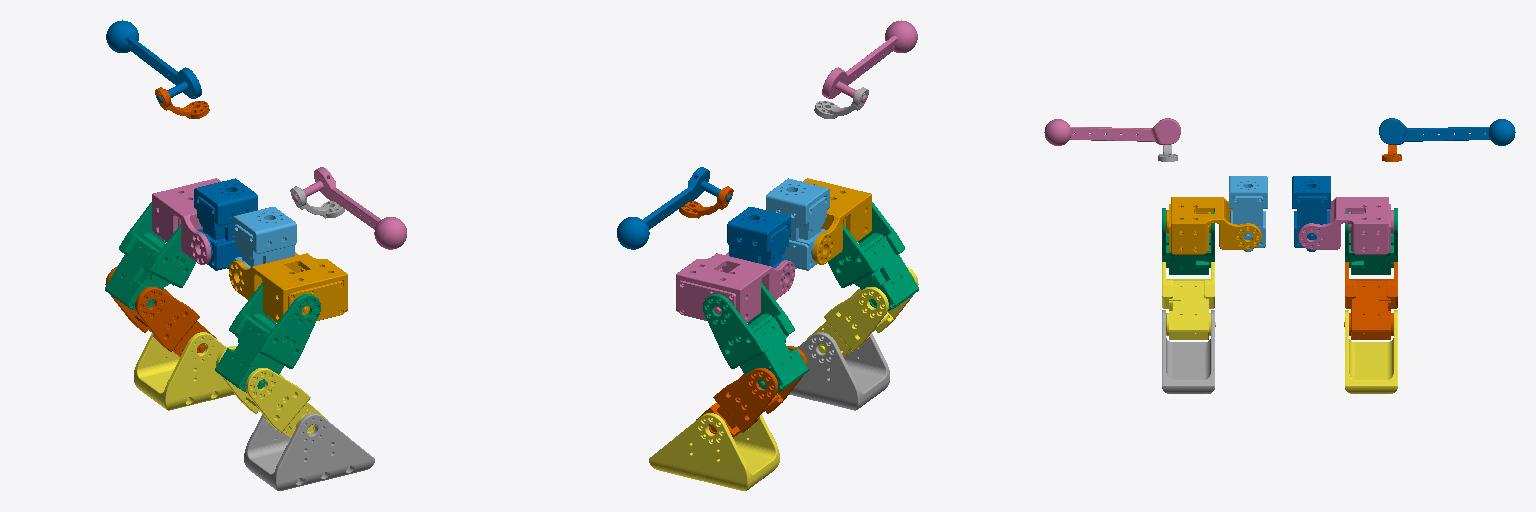
robot.urdf — arti_d1:
<?xml version="1.0"?>
<!-- generated by export_urdf.py from Fusion doc Open_mini_duck_redesign_for URDF, ARM_MODE=serial, ZERO_POSE=current -->
<!-- trunk frame origin = point from sketch redesign/Sketch52, Fusion world -9.64957 0 -246.248 mm (axes = Fusion world: x forward, y left, z up) -->
<!-- joint 0 = this Fusion pose (deg from the straight CAD pose): left_hip_pitch +36.240, left_knee -78.700, left_ankle +42.456, right_hip_pitch +36.240, right_knee -78.700, right_ankle +42.456 -->
<robot name="arti_d1">
  <link name="trunk">
    <inertial>
        <origin xyz="0 0 0" rpy="0 0 0" />
        <mass value="1e-9" />
        <inertia ixx="0" ixy="0" ixz="0" iyy="0" iyz="0" izz="0" />
    </inertial>
  </link>

  <!-- trunk = Fusion origin frame (zero mass); pelvis = root, origin at the ankle center on the floor -->
  <joint name="trunk_frame" type="fixed">
      <origin xyz="0.00964957 0 0.246248" rpy="0 0 0" />
      <parent link="pelvis" />
      <child link="trunk" />
      <axis xyz="0 0 0"/>
  </joint>

  <link name="pelvis">
    <inertial>
      <origin xyz="0.0142445 5.36923e-05 0.300732" rpy="0 0 0"/>
      <mass value="3.69352"/>
      <inertia ixx="0.0179764" iyy="0.0137874" izz="0.0183283" ixy="4.22501e-06" iyz="-7.15743e-06" ixz="0.00060127"/>
    </inertial>
    <visual>
      <origin xyz="0 0 0" rpy="0 0 0"/>
      <geometry><mesh filename="../meshes/pelvis.stl" scale="0.001 0.001 0.001"/></geometry>
    </visual>
    <collision>
      <origin xyz="0 0 0" rpy="0 0 0"/>
      <geometry><mesh filename="../meshes/pelvis.stl" scale="0.001 0.001 0.001"/></geometry>
    </collision>
  </link>

  <link name="left_thigh">
    <inertial>
      <origin xyz="-0.0339167 0.0245583 -0.0462735" rpy="0 0 0"/>
      <mass value="0.201567"/>
      <inertia ixx="0.000117356" iyy="0.000112819" izz="9.48907e-05" ixy="6.01623e-07" iyz="8.2081e-07" ixz="-3.55819e-05"/>
    </inertial>
    <visual>
      <origin xyz="0 0 0" rpy="0 0 0"/>
      <geometry><mesh filename="../meshes/left_thigh.stl" scale="0.001 0.001 0.001"/></geometry>
    </visual>
    <collision>
      <origin xyz="0 0 0" rpy="0 0 0"/>
      <geometry><mesh filename="../meshes/left_thigh.stl" scale="0.001 0.001 0.001"/></geometry>
    </collision>
  </link>
  <link name="left_foot_link">
    <inertial>
      <origin xyz="0.0116596 -0.0237721 -0.0422721" rpy="0 0 0"/>
      <mass value="0.15981"/>
      <inertia ixx="8.91057e-05" iyy="0.000156093" izz="0.000181798" ixy="-8.45586e-08" iyz="2.94024e-07" ixz="7.00463e-06"/>
    </inertial>
    <visual>
      <origin xyz="0 0 0" rpy="0 0 0"/>
      <geometry><mesh filename="../meshes/left_foot.stl" scale="0.001 0.001 0.001"/></geometry>
    </visual>
    <collision>
      <origin xyz="0 0 0" rpy="0 0 0"/>
      <geometry><mesh filename="../meshes/left_foot.stl" scale="0.001 0.001 0.001"/></geometry>
    </collision>
  </link>
  <link name="left_hip">
    <inertial>
      <origin xyz="-0.00492338 0 -0.084295" rpy="0 0 0"/>
      <mass value="0.19661"/>
      <inertia ixx="9.44363e-05" iyy="0.000104571" izz="5.45394e-05" ixy="0" iyz="0" ixz="8.88875e-07"/>
    </inertial>
    <visual>
      <origin xyz="0 0 0" rpy="0 0 0"/>
      <geometry><mesh filename="../meshes/left_hip.stl" scale="0.001 0.001 0.001"/></geometry>
    </visual>
    <collision>
      <origin xyz="0 0 0" rpy="0 0 0"/>
      <geometry><mesh filename="../meshes/left_hip.stl" scale="0.001 0.001 0.001"/></geometry>
    </collision>
  </link>
  <link name="left_shin">
    <inertial>
      <origin xyz="0.0387273 0.023442 -0.0423231" rpy="0 0 0"/>
      <mass value="0.201572"/>
      <inertia ixx="0.000109424" iyy="0.000112813" izz="0.00010282" ixy="6.87261e-07" iyz="-7.52772e-07" ixz="3.71616e-05"/>
    </inertial>
    <visual>
      <origin xyz="0 0 0" rpy="0 0 0"/>
      <geometry><mesh filename="../meshes/left_shin.stl" scale="0.001 0.001 0.001"/></geometry>
    </visual>
    <collision>
      <origin xyz="0 0 0" rpy="0 0 0"/>
      <geometry><mesh filename="../meshes/left_shin.stl" scale="0.001 0.001 0.001"/></geometry>
    </collision>
  </link>
  <link name="left_roll_to_pitch">
    <inertial>
      <origin xyz="0.0277586 0.0608919 0.00177323" rpy="0 0 0"/>
      <mass value="0.220929"/>
      <inertia ixx="0.000106859" iyy="0.000105589" izz="0.000163882" ixy="-4.32704e-06" iyz="1.70213e-06" ixz="3.58423e-07"/>
    </inertial>
    <visual>
      <origin xyz="0 0 0" rpy="0 0 0"/>
      <geometry><mesh filename="../meshes/left_roll_to_pitch.stl" scale="0.001 0.001 0.001"/></geometry>
    </visual>
    <collision>
      <origin xyz="0 0 0" rpy="0 0 0"/>
      <geometry><mesh filename="../meshes/left_roll_to_pitch.stl" scale="0.001 0.001 0.001"/></geometry>
    </collision>
  </link>
  <link name="right_foot_link">
    <inertial>
      <origin xyz="0.0116596 0.0242279 -0.0422721" rpy="0 0 0"/>
      <mass value="0.15981"/>
      <inertia ixx="8.91057e-05" iyy="0.000156093" izz="0.000181798" ixy="-8.45586e-08" iyz="2.94024e-07" ixz="7.00463e-06"/>
    </inertial>
    <visual>
      <origin xyz="0 0 0" rpy="0 0 0"/>
      <geometry><mesh filename="../meshes/right_foot.stl" scale="0.001 0.001 0.001"/></geometry>
    </visual>
    <collision>
      <origin xyz="0 0 0" rpy="0 0 0"/>
      <geometry><mesh filename="../meshes/right_foot.stl" scale="0.001 0.001 0.001"/></geometry>
    </collision>
  </link>
  <link name="right_roll_to_pitch">
    <inertial>
      <origin xyz="0.0277584 -0.060892 0.00177324" rpy="0 0 0"/>
      <mass value="0.220928"/>
      <inertia ixx="0.000106858" iyy="0.000105587" izz="0.00016388" ixy="4.32791e-06" iyz="-1.70218e-06" ixz="3.5834e-07"/>
    </inertial>
    <visual>
      <origin xyz="0 0 0" rpy="0 0 0"/>
      <geometry><mesh filename="../meshes/right_roll_to_pitch.stl" scale="0.001 0.001 0.001"/></geometry>
    </visual>
    <collision>
      <origin xyz="0 0 0" rpy="0 0 0"/>
      <geometry><mesh filename="../meshes/right_roll_to_pitch.stl" scale="0.001 0.001 0.001"/></geometry>
    </collision>
  </link>
  <link name="right_hip">
    <inertial>
      <origin xyz="-0.00492338 0 -0.084295" rpy="0 0 0"/>
      <mass value="0.19661"/>
      <inertia ixx="9.44363e-05" iyy="0.000104571" izz="5.45394e-05" ixy="0" iyz="0" ixz="8.88875e-07"/>
    </inertial>
    <visual>
      <origin xyz="0 0 0" rpy="0 0 0"/>
      <geometry><mesh filename="../meshes/right_hip.stl" scale="0.001 0.001 0.001"/></geometry>
    </visual>
    <collision>
      <origin xyz="0 0 0" rpy="0 0 0"/>
      <geometry><mesh filename="../meshes/right_hip.stl" scale="0.001 0.001 0.001"/></geometry>
    </collision>
  </link>
  <link name="right_thigh">
    <inertial>
      <origin xyz="-0.0339168 -0.0245577 -0.0462736" rpy="0 0 0"/>
      <mass value="0.201567"/>
      <inertia ixx="0.000117355" iyy="0.000112818" izz="9.48903e-05" ixy="-6.03408e-07" iyz="-8.23245e-07" ixz="-3.55812e-05"/>
    </inertial>
    <visual>
      <origin xyz="0 0 0" rpy="0 0 0"/>
      <geometry><mesh filename="../meshes/right_thigh.stl" scale="0.001 0.001 0.001"/></geometry>
    </visual>
    <collision>
      <origin xyz="0 0 0" rpy="0 0 0"/>
      <geometry><mesh filename="../meshes/right_thigh.stl" scale="0.001 0.001 0.001"/></geometry>
    </collision>
  </link>
  <link name="right_shin">
    <inertial>
      <origin xyz="0.0387277 -0.0234417 -0.0423232" rpy="0 0 0"/>
      <mass value="0.201569"/>
      <inertia ixx="0.000109423" iyy="0.00011281" izz="0.000102816" ixy="-6.8696e-07" iyz="7.50737e-07" ixz="3.71613e-05"/>
    </inertial>
    <visual>
      <origin xyz="0 0 0" rpy="0 0 0"/>
      <geometry><mesh filename="../meshes/right_shin.stl" scale="0.001 0.001 0.001"/></geometry>
    </visual>
    <collision>
      <origin xyz="0 0 0" rpy="0 0 0"/>
      <geometry><mesh filename="../meshes/right_shin.stl" scale="0.001 0.001 0.001"/></geometry>
    </collision>
  </link>
  <link name="left_arm_plate">
    <inertial>
      <origin xyz="0.0114968 0.091619 0.00152674" rpy="0 0 0"/>
      <mass value="0.0606196"/>
      <inertia ixx="0.000147627" iyy="6.21553e-06" izz="0.000148816" ixy="-6.08529e-06" iyz="-8.98693e-07" ixz="-2.25225e-07"/>
    </inertial>
    <visual>
      <origin xyz="0 0 0" rpy="0 0 0"/>
      <geometry><mesh filename="../meshes/left_arm_plate.stl" scale="0.001 0.001 0.001"/></geometry>
    </visual>
    <collision>
      <origin xyz="0 0 0" rpy="0 0 0"/>
      <geometry><mesh filename="../meshes/left_arm_plate.stl" scale="0.001 0.001 0.001"/></geometry>
    </collision>
  </link>
  <link name="left_arm_m8_crank">
    <inertial>
      <origin xyz="-0.0253569 5.20576e-08 0.013644" rpy="0 0 0"/>
      <mass value="0.0078822"/>
      <inertia ixx="8.98065e-07" iyy="2.58505e-06" izz="1.96519e-06" ixy="0" iyz="0" ixz="1.03863e-06"/>
    </inertial>
    <visual>
      <origin xyz="0 0 0" rpy="0 0 0"/>
      <geometry><mesh filename="../meshes/left_arm_m8_crank.stl" scale="0.001 0.001 0.001"/></geometry>
    </visual>
    <collision>
      <origin xyz="0 0 0" rpy="0 0 0"/>
      <geometry><mesh filename="../meshes/left_arm_m8_crank.stl" scale="0.001 0.001 0.001"/></geometry>
    </collision>
  </link>
  <link name="right_arm_plate">
    <inertial>
      <origin xyz="0.0114968 -0.0916191 0.00152676" rpy="0 0 0"/>
      <mass value="0.0606195"/>
      <inertia ixx="0.000147626" iyy="6.21553e-06" izz="0.000148816" ixy="6.08533e-06" iyz="8.98572e-07" ixz="-2.25229e-07"/>
    </inertial>
    <visual>
      <origin xyz="0 0 0" rpy="0 0 0"/>
      <geometry><mesh filename="../meshes/right_arm_plate.stl" scale="0.001 0.001 0.001"/></geometry>
    </visual>
    <collision>
      <origin xyz="0 0 0" rpy="0 0 0"/>
      <geometry><mesh filename="../meshes/right_arm_plate.stl" scale="0.001 0.001 0.001"/></geometry>
    </collision>
  </link>
  <link name="right_arm_m8_crank">
    <inertial>
      <origin xyz="-0.0253566 -4.06803e-09 0.0136439" rpy="0 0 0"/>
      <mass value="0.00788231"/>
      <inertia ixx="8.98084e-07" iyy="2.58514e-06" izz="1.96528e-06" ixy="0" iyz="0" ixz="1.03866e-06"/>
    </inertial>
    <visual>
      <origin xyz="0 0 0" rpy="0 0 0"/>
      <geometry><mesh filename="../meshes/right_arm_m8_crank.stl" scale="0.001 0.001 0.001"/></geometry>
    </visual>
    <collision>
      <origin xyz="0 0 0" rpy="0 0 0"/>
      <geometry><mesh filename="../meshes/right_arm_m8_crank.stl" scale="0.001 0.001 0.001"/></geometry>
    </collision>
  </link>
  <joint name="left_hip_yaw" type="revolute">
    <origin xyz="0.00964957 0.035 0.281048" rpy="0 0 0"/>
    <parent link="pelvis"/>
    <child link="left_hip"/>
    <axis xyz="0 0 1"/>
    <limit effort="10.6" velocity="3.14" lower="-0.523599" upper="0.523599"/>
  </joint>
  <joint name="left_hip_roll" type="revolute">
    <origin xyz="-0.0295 0 -0.10025" rpy="0 0 0"/>
    <parent link="left_hip"/>
    <child link="left_roll_to_pitch"/>
    <axis xyz="1 0 0"/>
    <limit effort="10.6" velocity="3.14" lower="-0.314159" upper="0.20944"/>
  </joint>
  <joint name="left_hip_pitch" type="revolute">
    <origin xyz="0.01325 0.04175 -5e-06" rpy="0 0 0"/>
    <parent link="left_roll_to_pitch"/>
    <child link="left_thigh"/>
    <axis xyz="0 1 0"/>
    <limit effort="10.6" velocity="3.14" lower="-1.15611" upper="0.781209"/>
  </joint>
  <joint name="left_knee" type="revolute">
    <origin xyz="-0.0464984 0 -0.063439" rpy="0 0 0"/>
    <parent link="left_thigh"/>
    <child link="left_shin"/>
    <axis xyz="0 1 0"/>
    <limit effort="10.6" velocity="3.14" lower="-0.354302" upper="1.54811"/>
  </joint>
  <joint name="left_ankle" type="revolute">
    <origin xyz="0.0530947 0.048 -0.0580239" rpy="0 0 0"/>
    <parent link="left_shin"/>
    <child link="left_foot_link"/>
    <axis xyz="0 1 0"/>
    <limit effort="10.6" velocity="3.14" lower="-1.80565" upper="0.568"/>
  </joint>
  <joint name="right_hip_yaw" type="revolute">
    <origin xyz="0.00964957 -0.035 0.281048" rpy="0 0 0"/>
    <parent link="pelvis"/>
    <child link="right_hip"/>
    <axis xyz="0 0 1"/>
    <limit effort="10.6" velocity="3.14" lower="-0.523599" upper="0.523599"/>
  </joint>
  <joint name="right_hip_roll" type="revolute">
    <origin xyz="-0.0295 0 -0.10025" rpy="0 0 0"/>
    <parent link="right_hip"/>
    <child link="right_roll_to_pitch"/>
    <axis xyz="1 0 0"/>
    <limit effort="10.6" velocity="3.14" lower="-0.20944" upper="0.314159"/>
  </joint>
  <joint name="right_hip_pitch" type="revolute">
    <origin xyz="0.01325 -0.04175 -5e-06" rpy="0 0 0"/>
    <parent link="right_roll_to_pitch"/>
    <child link="right_thigh"/>
    <axis xyz="0 1 0"/>
    <limit effort="10.6" velocity="3.14" lower="-1.15611" upper="0.781209"/>
  </joint>
  <joint name="right_knee" type="revolute">
    <origin xyz="-0.0464984 0 -0.063439" rpy="0 0 0"/>
    <parent link="right_thigh"/>
    <child link="right_shin"/>
    <axis xyz="0 1 0"/>
    <limit effort="10.6" velocity="3.14" lower="-0.354302" upper="1.54811"/>
  </joint>
  <joint name="right_ankle" type="revolute">
    <origin xyz="0.0530947 -0.048 -0.0580239" rpy="0 0 0"/>
    <parent link="right_shin"/>
    <child link="right_foot_link"/>
    <axis xyz="0 1 0"/>
    <limit effort="10.6" velocity="3.14" lower="-1.80565" upper="0.568"/>
  </joint>
  <joint name="left_arm_m8" type="revolute">
    <origin xyz="0.0248443 0.12358 0.272732" rpy="0 0 0"/>
    <parent link="pelvis"/>
    <child link="left_arm_m8_crank"/>
    <axis xyz="-0.258819 0 0.965926"/>
    <limit effort="4.1" velocity="4.82" lower="-1.0472" upper="0.349066"/>
  </joint>
  <joint name="left_arm_m8crank_plate" type="revolute">
    <origin xyz="-0.0214747 0 0.0256665" rpy="0 0 0"/>
    <parent link="left_arm_m8_crank"/>
    <child link="left_arm_plate"/>
    <axis xyz="0.965926 0 0.258819"/>
    <limit effort="4.1" velocity="4.82" lower="-0.226893" upper="1.16937"/>
  </joint>
  <joint name="right_arm_m8" type="revolute">
    <origin xyz="0.0248443 -0.12358 0.272732" rpy="0 0 0"/>
    <parent link="pelvis"/>
    <child link="right_arm_m8_crank"/>
    <axis xyz="0.258819 0 -0.965926"/>
    <limit effort="4.1" velocity="4.82" lower="-1.0472" upper="0.349066"/>
  </joint>
  <joint name="right_arm_m8crank_plate" type="revolute">
    <origin xyz="-0.0214747 0 0.0256665" rpy="0 0 0"/>
    <parent link="right_arm_m8_crank"/>
    <child link="right_arm_plate"/>
    <axis xyz="-0.965926 0 -0.258819"/>
    <limit effort="4.1" velocity="4.82" lower="-0.226893" upper="1.16937"/>
  </joint>

  <!-- sole contact frames: center of the foot sole at zero pose (from foot mesh bounds) -->
  <joint name="left_foot_frame" type="fixed">
    <origin xyz="0.0135599213 -0.024 -0.0593316689" rpy="0 0 0" />
    <parent link="left_foot_link"/>
    <child link="left_foot"/>
    <axis xyz="0 0 0"/>
  </joint>
  <link name="left_foot"/>

  <joint name="right_foot_frame" type="fixed">
    <origin xyz="0.0135599213 0.0240000019 -0.0593316765" rpy="0 0 0" />
    <parent link="right_foot_link"/>
    <child link="right_foot"/>
    <axis xyz="0 0 0"/>
  </joint>
  <link name="right_foot"/>
</robot>

--- Render facts (derived) ---
3 views of the same robot in one strip: view 1: azimuth 30°, elevation 25°; view 2: azimuth 150°, elevation 25°; view 3: azimuth 270°, elevation 25° (orthographic).
Robot: arti_d1 — 18 links, 17 joints (14 revolute, 3 fixed); root link pelvis; default pose: every joint at zero.
Visible links, largest first — view 1: right_foot_link, right_thigh, right_roll_to_pitch, left_foot_link, left_thigh, left_hip, left_shin, right_shin, right_hip, left_roll_to_pitch, left_arm_plate, right_arm_plate (+2 smaller); view 2: left_foot_link, left_thigh, left_roll_to_pitch, right_foot_link, right_thigh, right_hip, right_shin, left_shin, left_hip, right_roll_to_pitch, right_arm_plate, left_arm_plate (+2 smaller); view 3: left_roll_to_pitch, right_roll_to_pitch, left_shin, right_shin, right_foot_link, left_foot_link, left_arm_plate, right_arm_plate, left_hip, right_hip, left_thigh, right_thigh.
Link boxes in pixels (x1,y1,x2,y2): right_foot_link: [244, 413, 374, 490]; right_thigh: [215, 282, 320, 392]; right_roll_to_pitch: [229, 252, 347, 322]; left_foot_link: [134, 332, 234, 410]; left_thigh: [105, 202, 195, 310]; left_hip: [194, 178, 257, 270]; left_shin: [105, 266, 216, 356]; right_shin: [216, 346, 327, 437]; right_hip: [233, 207, 296, 278]; left_roll_to_pitch: [152, 178, 220, 264]; left_arm_plate: [106, 20, 201, 102]; right_arm_plate: [293, 167, 406, 249]; left_foot_link: [649, 413, 779, 490]; left_thigh: [703, 282, 808, 392]; left_roll_to_pitch: [676, 252, 794, 322]; right_foot_link: [789, 332, 889, 410]; right_thigh: [828, 202, 918, 310]; right_hip: [766, 178, 829, 270]; right_shin: [807, 266, 918, 356]; left_shin: [696, 346, 807, 437]; left_hip: [727, 207, 790, 278]; right_roll_to_pitch: [803, 178, 871, 264]; right_arm_plate: [822, 20, 917, 102]; left_arm_plate: [617, 167, 730, 249]; left_roll_to_pitch: [1298, 197, 1393, 254]; right_roll_to_pitch: [1166, 197, 1261, 254]; left_shin: [1344, 262, 1397, 339]; right_shin: [1162, 262, 1215, 339]; right_foot_link: [1162, 310, 1214, 393]; left_foot_link: [1345, 310, 1397, 393]; left_arm_plate: [1379, 118, 1515, 145]; right_arm_plate: [1044, 118, 1180, 145]; left_hip: [1292, 176, 1330, 251]; right_hip: [1229, 176, 1267, 251]; left_thigh: [1345, 208, 1397, 274]; right_thigh: [1162, 208, 1214, 274].
Size in the robot's own frame: 0.1396 by 0.5193 by 0.3168 metres.
14 mesh visuals loaded from 15 distinct referenced files (14 binary STL); not drawn: 1 (reference not matched to a file when rendering).
